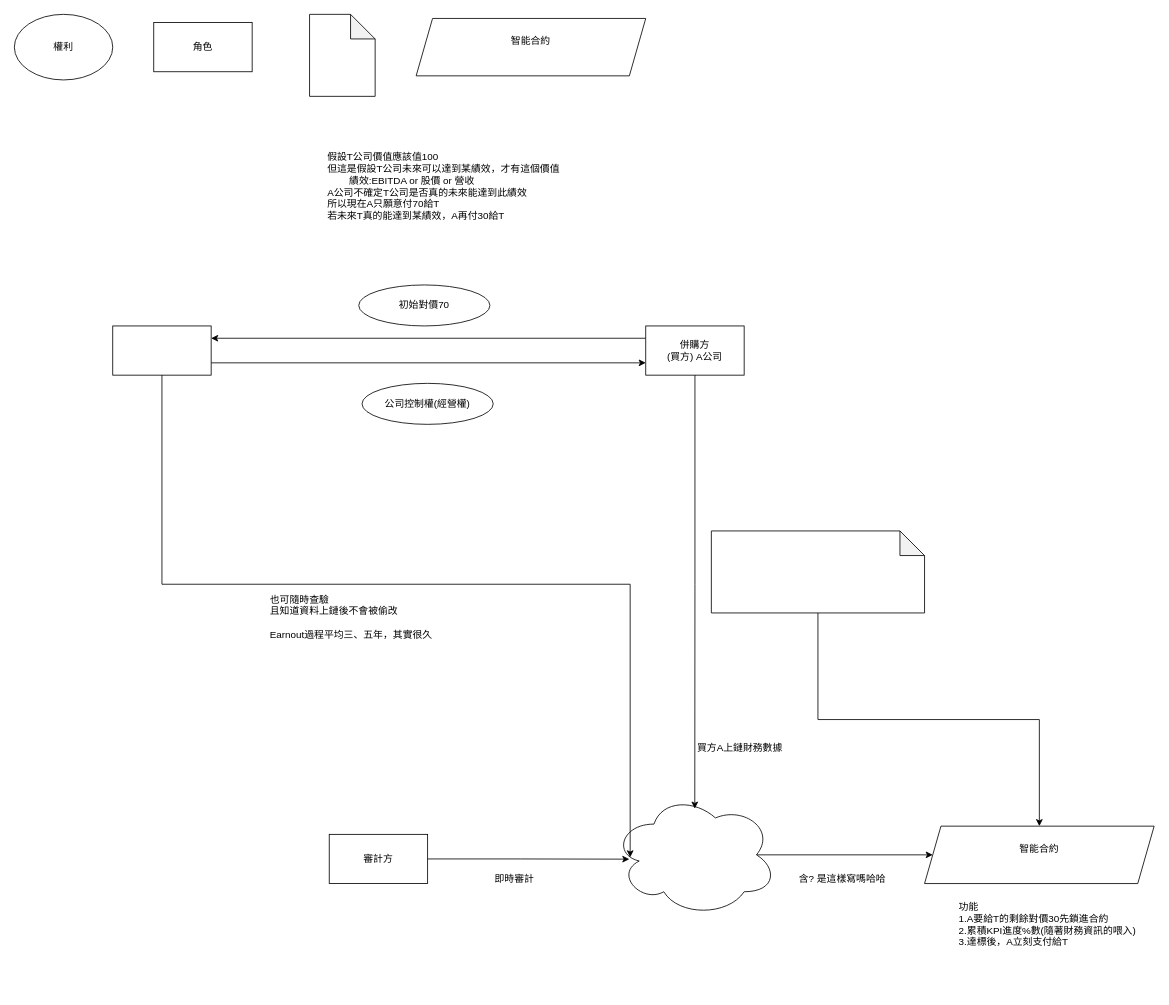
This 1169x1005 diagram has some shape labels left out. The centre of each missing label's shape, as x and y in pixels:
T交易財務數據 但現在T的所有決策都是A決定: (818,571)
區塊鏈平台: (694,854)
被併購方 (賣方) T公司: (161,350)
資料: (342,55)
